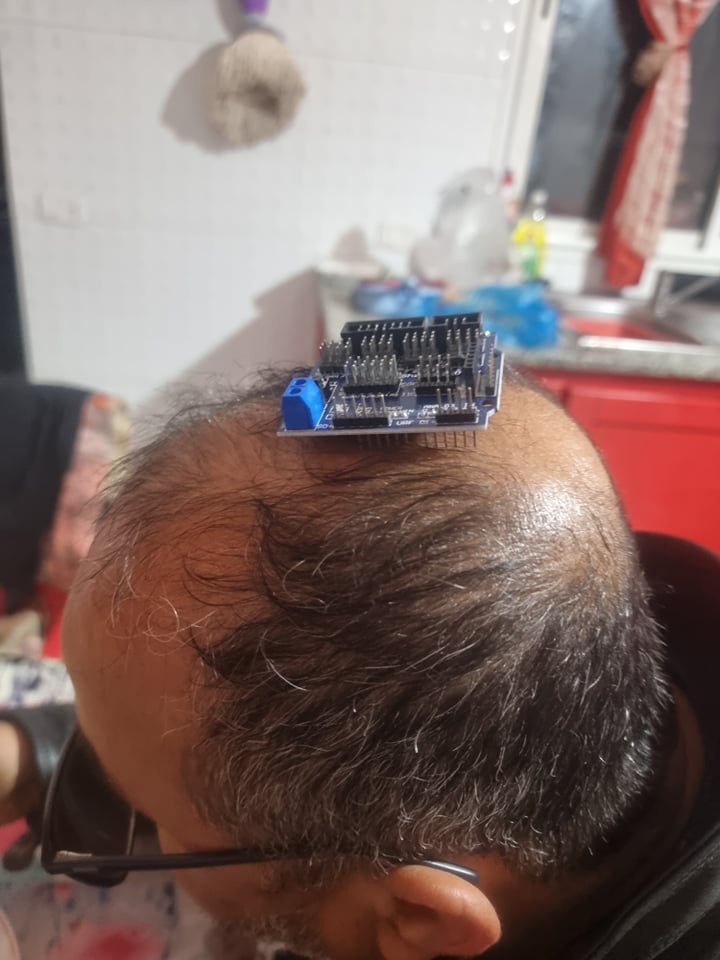5V EXPANSION: (274, 313, 503, 455)
